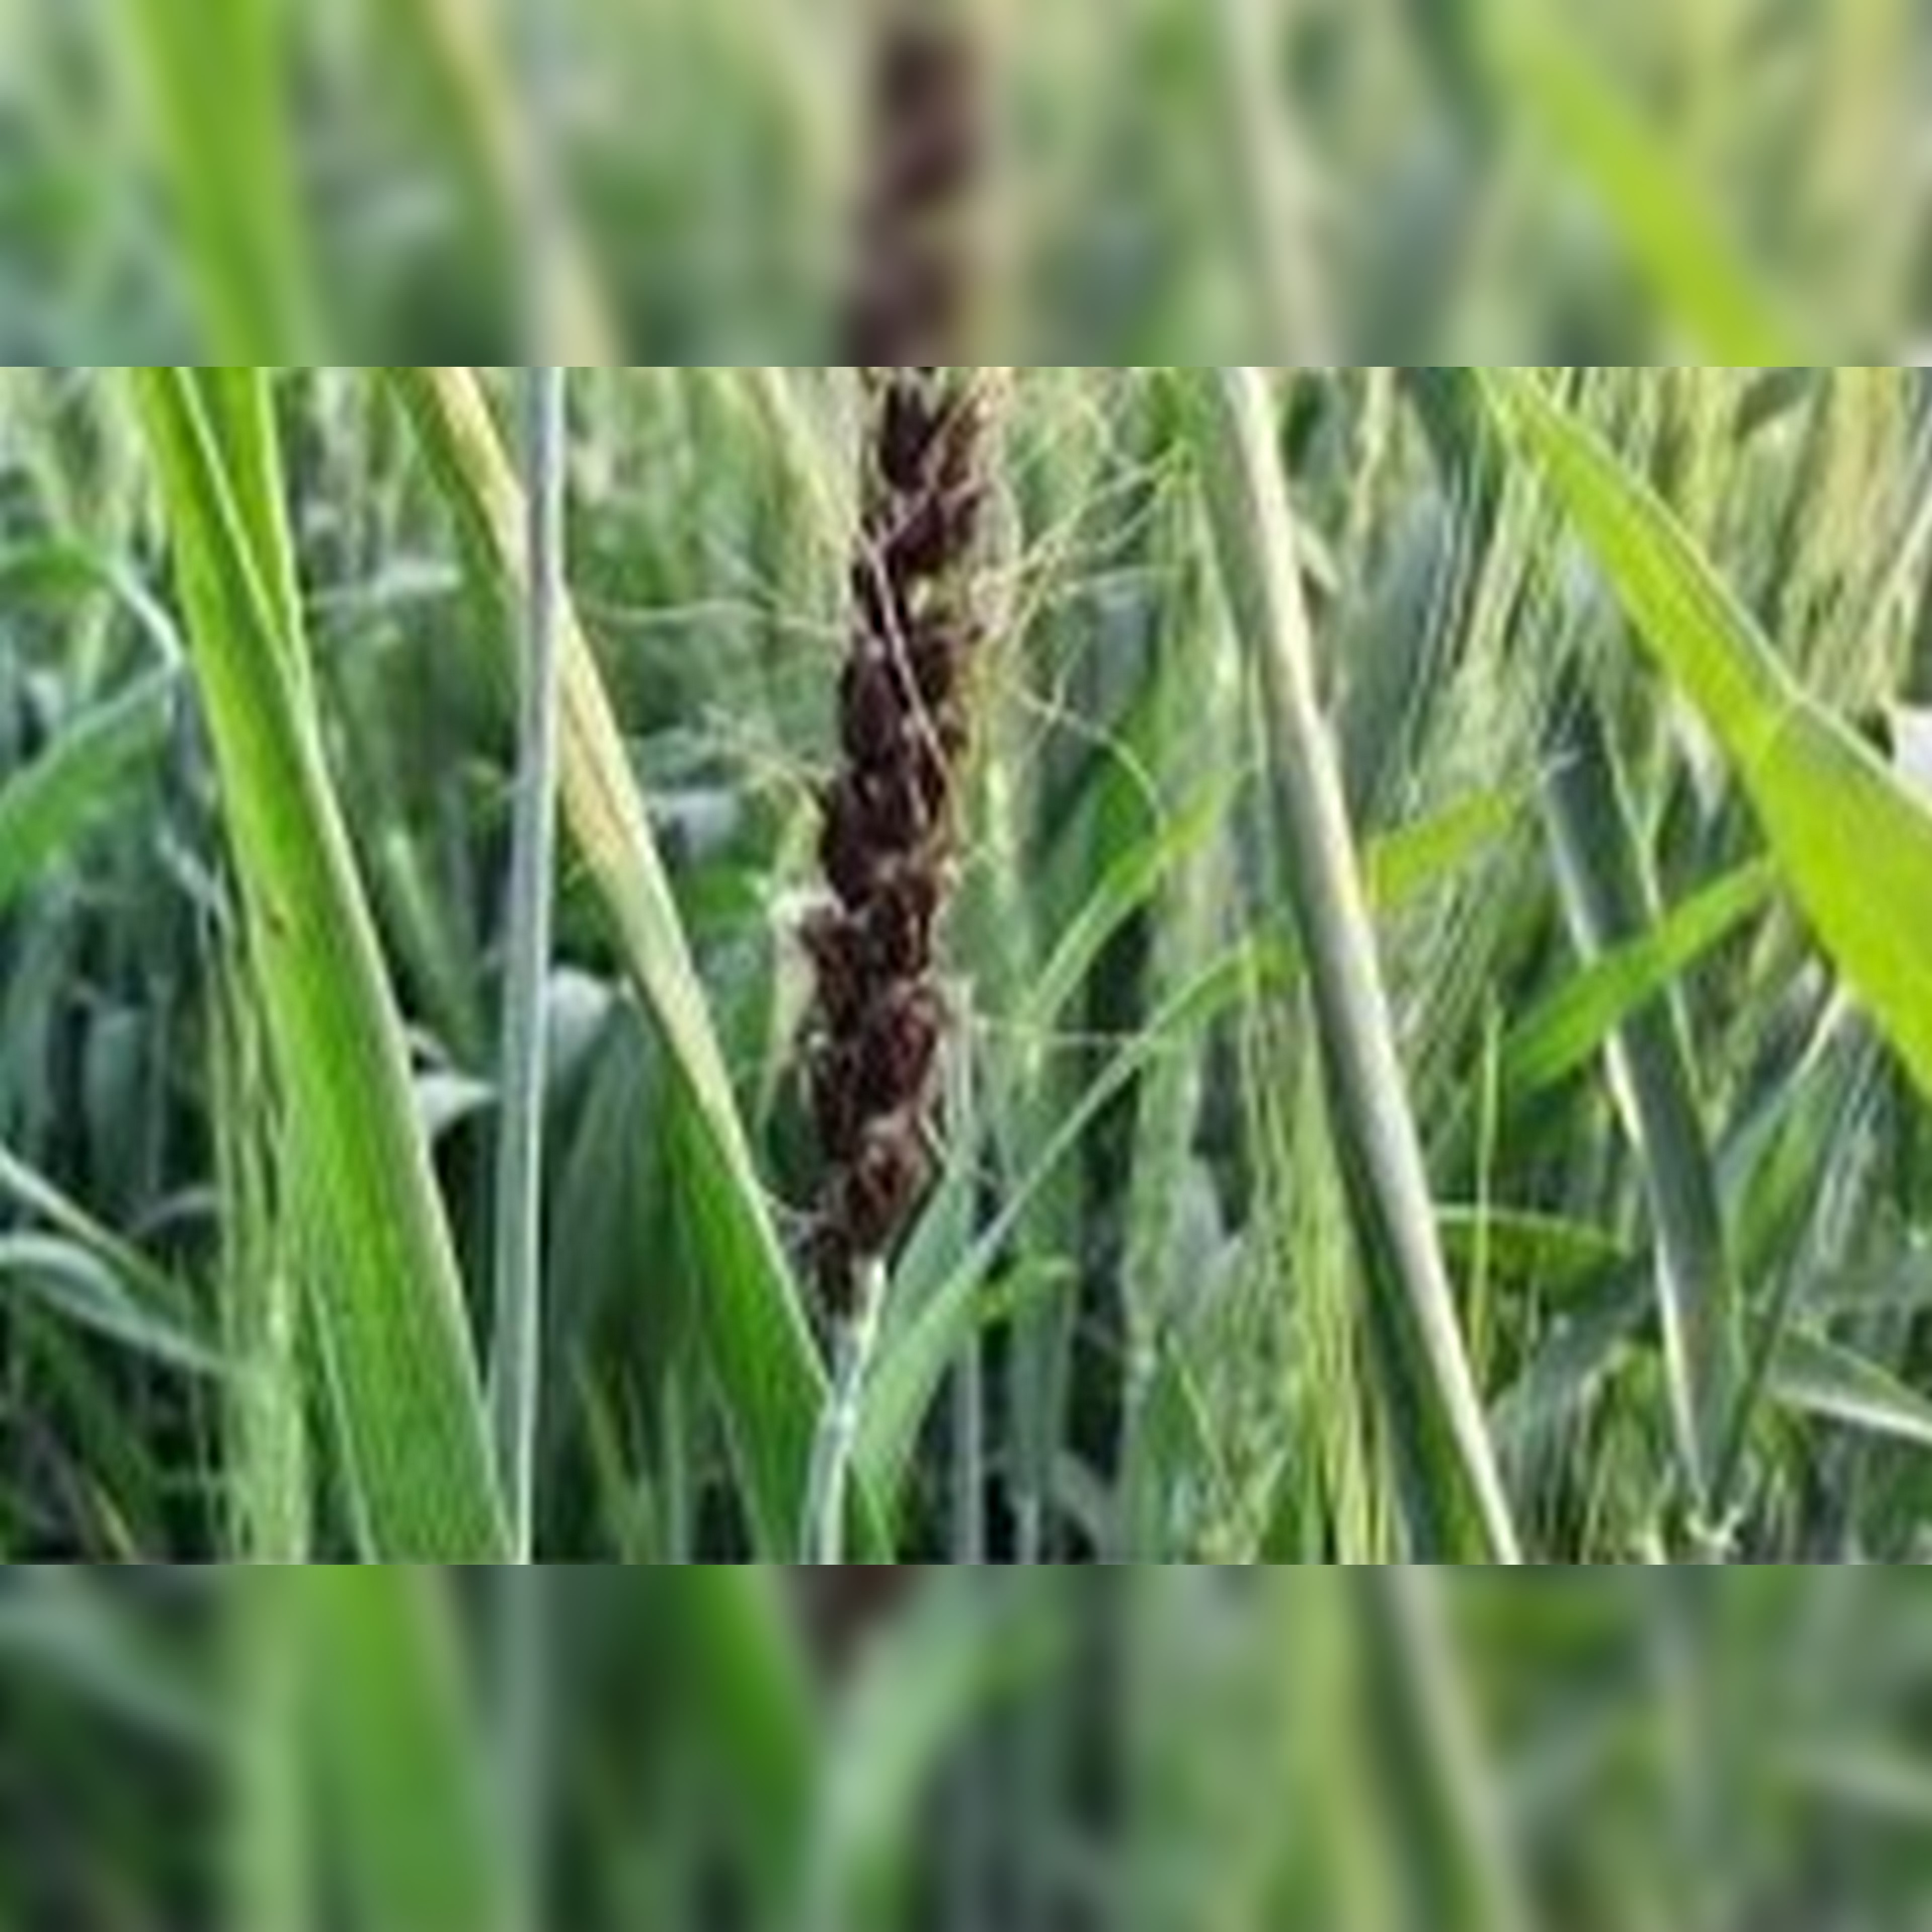Wheat Loose Smut: (780, 382, 1023, 1251)
